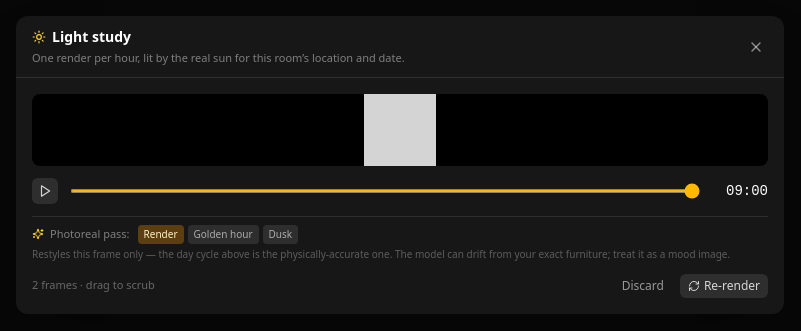
Test: LightStudyPanel photoreal pass › labels the result so a generated image is never mistaken for the render
Click the button "Golden hour": click(223, 234) [188,225,258,244]
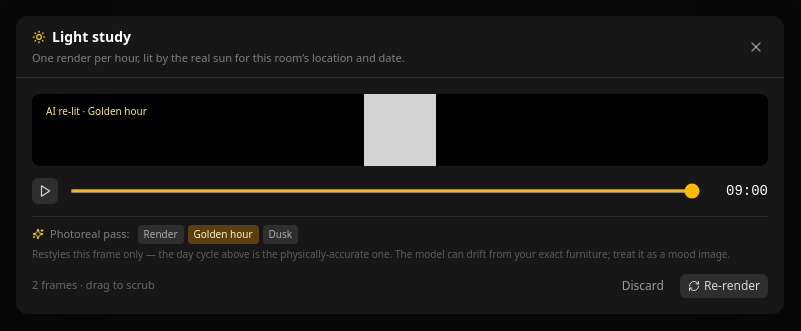
Result: the text "AI re-lit · Golden hour" is shown at [40,102,153,121]
